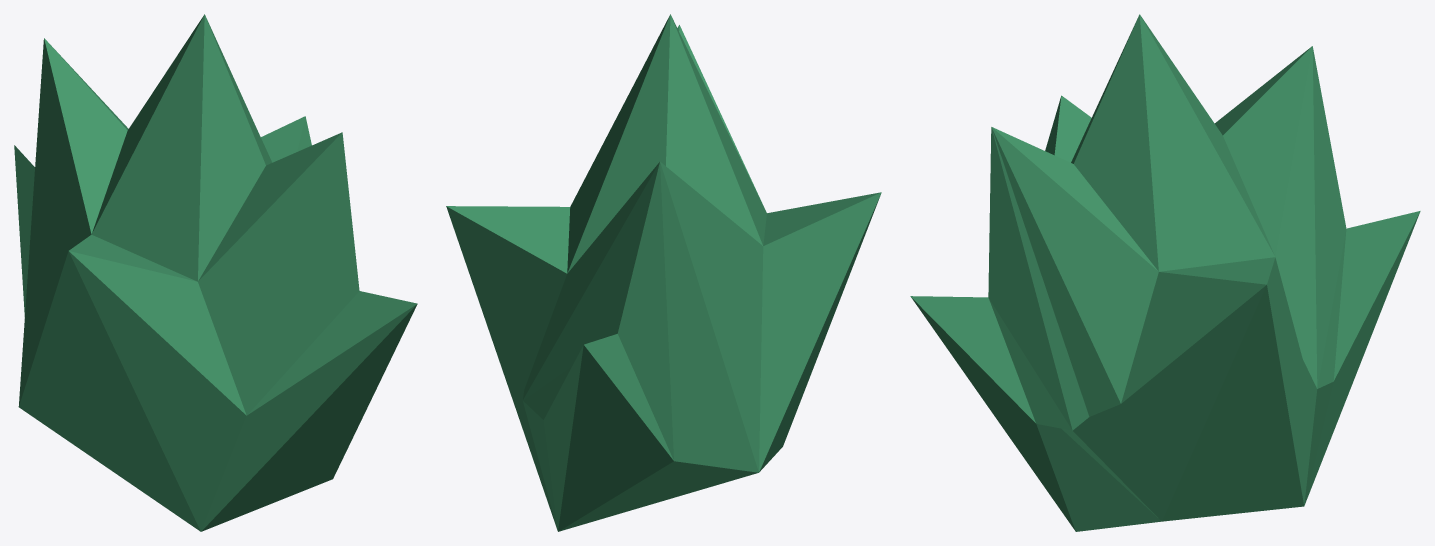
File: bush4.fbx
3 renders of one model, left to right at view 1: azimuth 30°, elevation 25°; view 2: azimuth 150°, elevation 25°; view 3: azimuth 270°, elevation 25°, orthographic. The views are drawn at different scales.
Parts seen in each view (by area): view 1: bush4; view 2: bush4; view 3: bush4.
Boxes of the visible parts, box(x1,y1,x2,y2) form: bush4: box(14, 14, 417, 531); bush4: box(446, 14, 881, 531); bush4: box(910, 14, 1420, 531).
Bounding box in the file's own units: 79.58 × 106 × 103.
